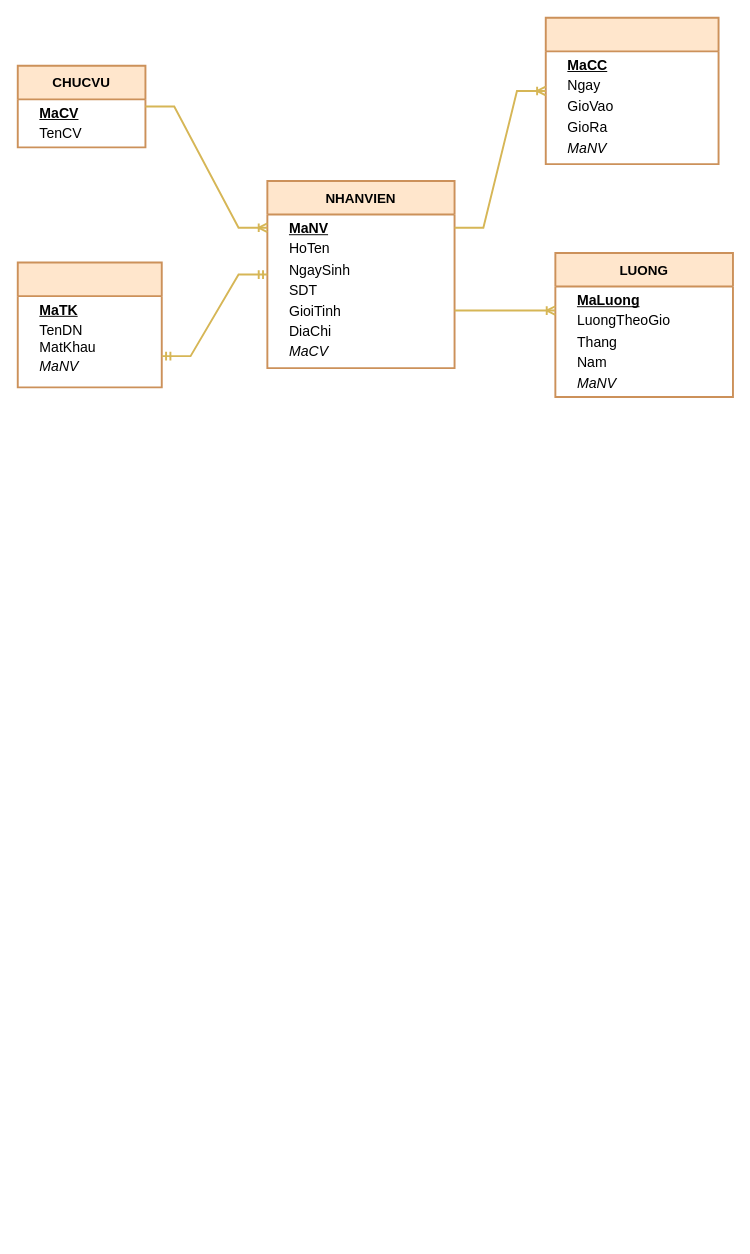
The diagram is 750 pixels wide and 1254 high, and some of its shapes have lost their labels. The shapes that lost their labels are listed below. From the top down, each one's box as (x1, y1, x2, y2) in pixels, then its label:
(544, 16, 719, 165): CHAMCONG
(16, 261, 162, 388): TAIKHOAN
